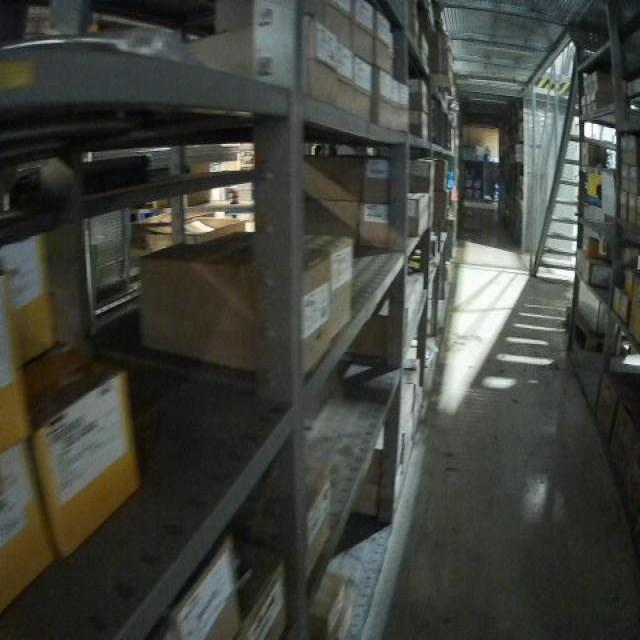pallet: (562, 309, 601, 355)
stillage: (81, 202, 139, 302)
